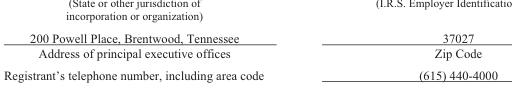table: (29, 29, 481, 60)
table column: (29, 29, 336, 60), (336, 29, 481, 60)
table row: (29, 29, 481, 45), (29, 45, 481, 60)
